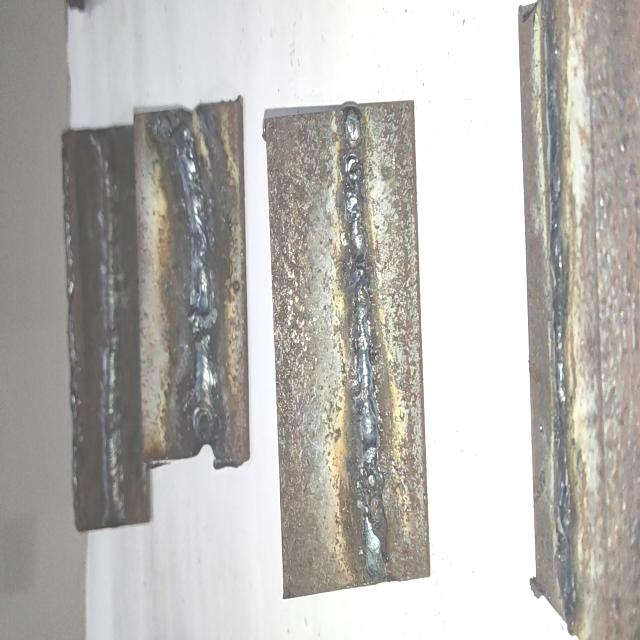Bad Weld: (336, 114, 389, 573), (190, 110, 214, 442)
Defect: (342, 112, 386, 570), (182, 135, 220, 433), (156, 115, 204, 173)
Good Weld: (544, 12, 575, 624), (95, 139, 119, 517)
